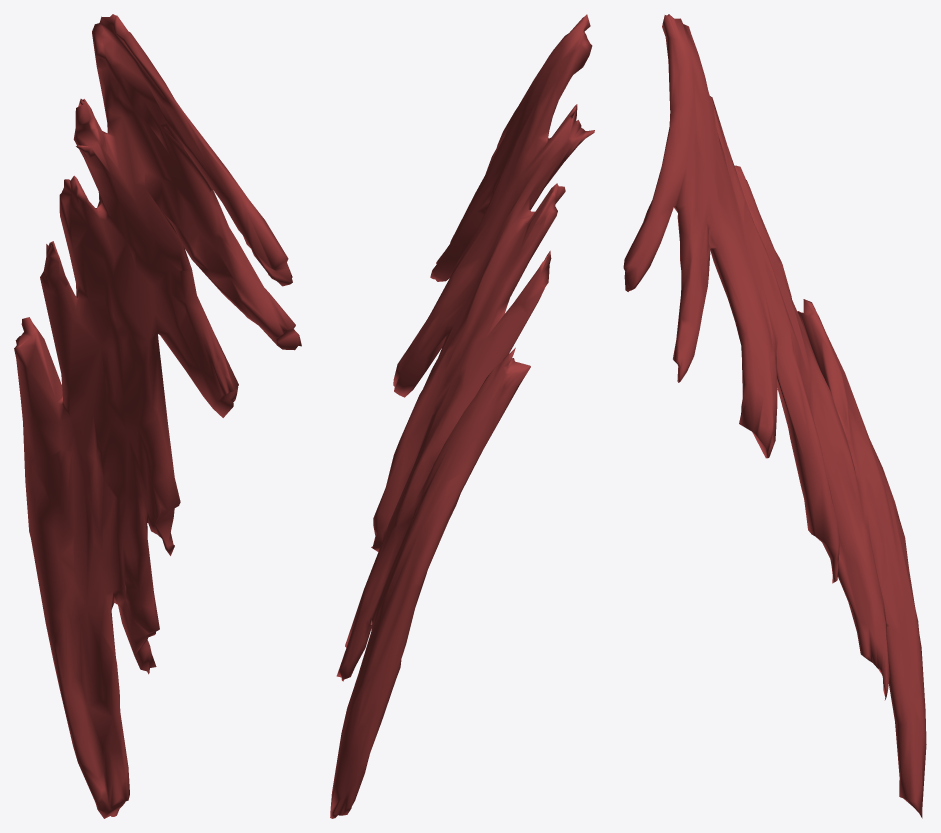
File: semispinalis-colli-muscle-l.glb
The picture shows the model from 3 angles, left to right: view 1: azimuth 30°, elevation 25°; view 2: azimuth 150°, elevation 25°; view 3: azimuth 270°, elevation 25°; orthographic projection. The views are drawn at different scales.
Parts seen in each view (by area): view 1: Semispinalis colli muscle.l; view 2: Semispinalis colli muscle.l; view 3: Semispinalis colli muscle.l.
Part boxes in pixels (x1,y1,x2,y2): Semispinalis colli muscle.l: (14,14,301,818); Semispinalis colli muscle.l: (330,14,594,818); Semispinalis colli muscle.l: (623,14,926,818).
Size of the model in its own units: 0.0339 by 0.1425 by 0.0527.
